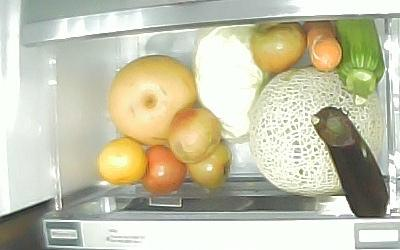cabbage: (194, 24, 267, 142)
carrot: (302, 20, 343, 75)
eggplant: (310, 106, 389, 217)
melon: (249, 65, 386, 199)
pear: (108, 55, 198, 145)
prune: (169, 106, 221, 164), (251, 23, 307, 76), (187, 140, 233, 189)
tangerine: (99, 137, 148, 186)
tomato: (142, 147, 188, 194)
zucchini: (335, 18, 385, 105)
